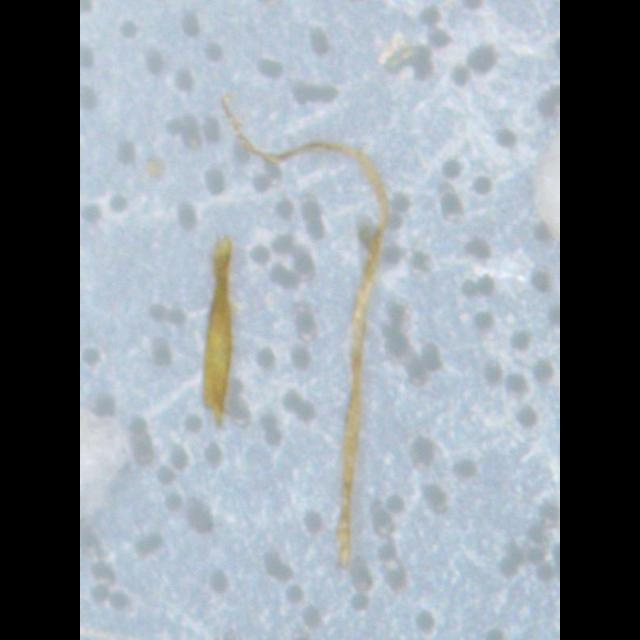Fibre: (217, 91, 391, 568)
